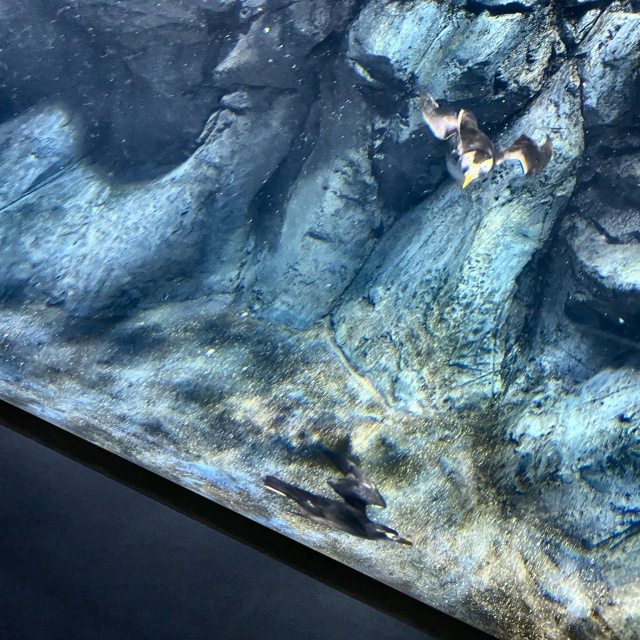puffin: (262, 447, 417, 548), (413, 88, 554, 190)
